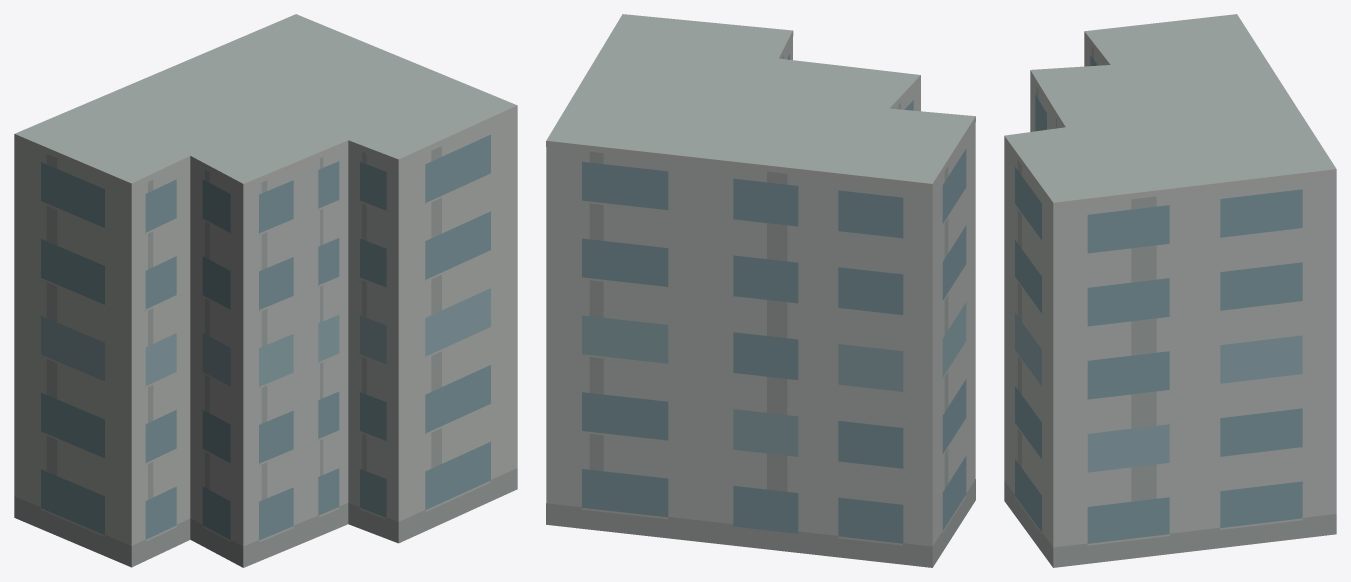
File: survey-upis-33009931.glb
3 views of the same model, side by side, from view 1: azimuth 30°, elevation 25°; view 2: azimuth 150°, elevation 25°; view 3: azimuth 270°, elevation 25° (orthographic). The views are drawn at different scales.
Parts seen in each view (by area): view 1: survey-upis-33009931.tmp; view 2: survey-upis-33009931.tmp; view 3: survey-upis-33009931.tmp.
Boxes of the visible parts, <box> form: survey-upis-33009931.tmp: <box>14,14,517,567</box>; survey-upis-33009931.tmp: <box>546,14,975,567</box>; survey-upis-33009931.tmp: <box>1004,14,1336,567</box>.
Bounding box in the file's own units: 16.91 × 15.25 × 12.59.
